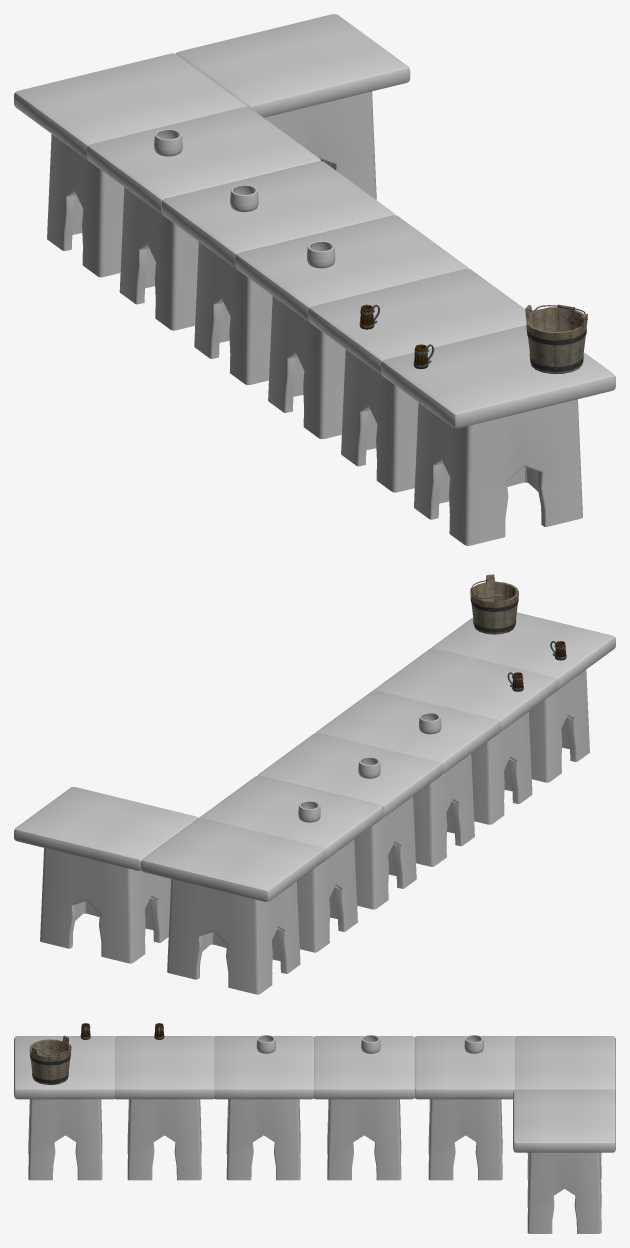
The model's file is bar.gltf.
3 renders of one model, top to bottom at view 1: azimuth 30°, elevation 25°; view 2: azimuth 150°, elevation 25°; view 3: azimuth 270°, elevation 25°, orthographic. The views are drawn at different scales.
Visible parts, largest first — view 1: SM_MERGED_StaticMeshActor_UAID_581122BC1080993702_1765666550; view 2: SM_MERGED_StaticMeshActor_UAID_581122BC1080993702_1765666550; view 3: SM_MERGED_StaticMeshActor_UAID_581122BC1080993702_1765666550.
Part boxes in pixels (box(x1,y1,x2,y2)): SM_MERGED_StaticMeshActor_UAID_581122BC1080993702_1765666550: box(14, 14, 615, 545); SM_MERGED_StaticMeshActor_UAID_581122BC1080993702_1765666550: box(14, 574, 615, 994); SM_MERGED_StaticMeshActor_UAID_581122BC1080993702_1765666550: box(14, 1023, 615, 1233).
Bounding box in the file's own units: 5.15 × 2.99 × 12.15.
